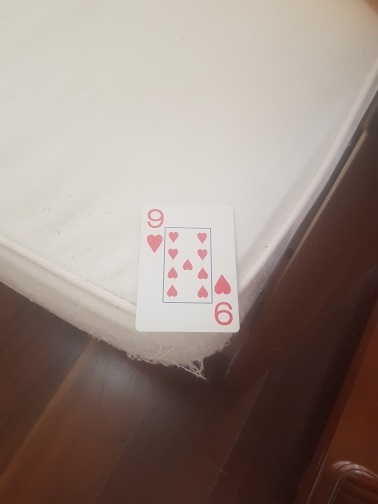nine: (134, 201, 237, 334)
